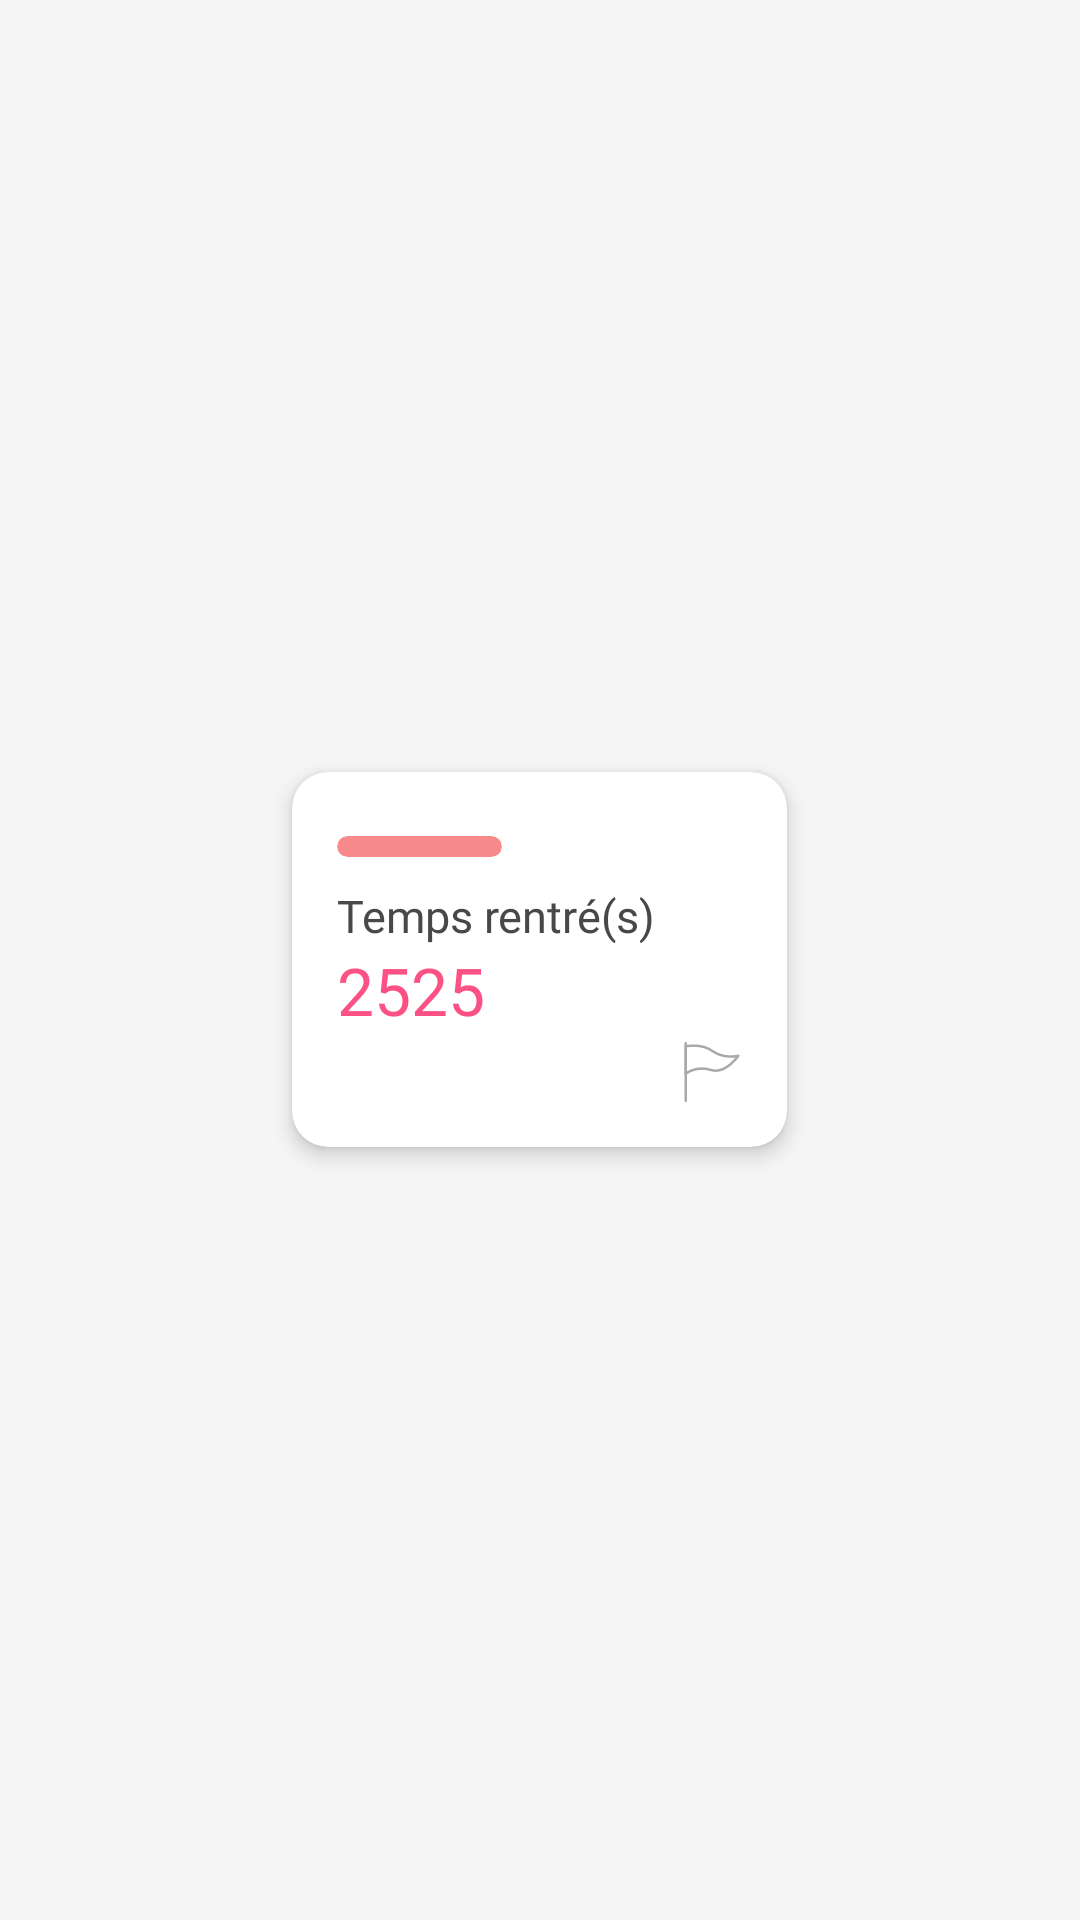

Named icons in this screenshot (1080w x 1920h) and their bounding boxes, [x1=x1, y1=y1, x2=x2, y2=y2]:
flag: [x1=684, y1=1042, x2=740, y2=1102]
